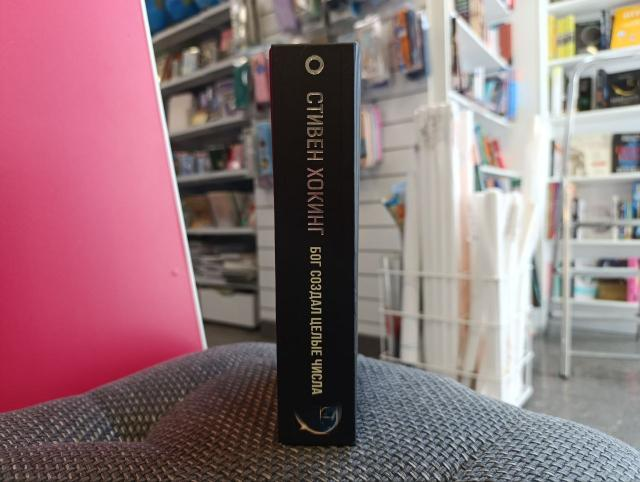book-s-spine: (272, 43, 356, 446)
